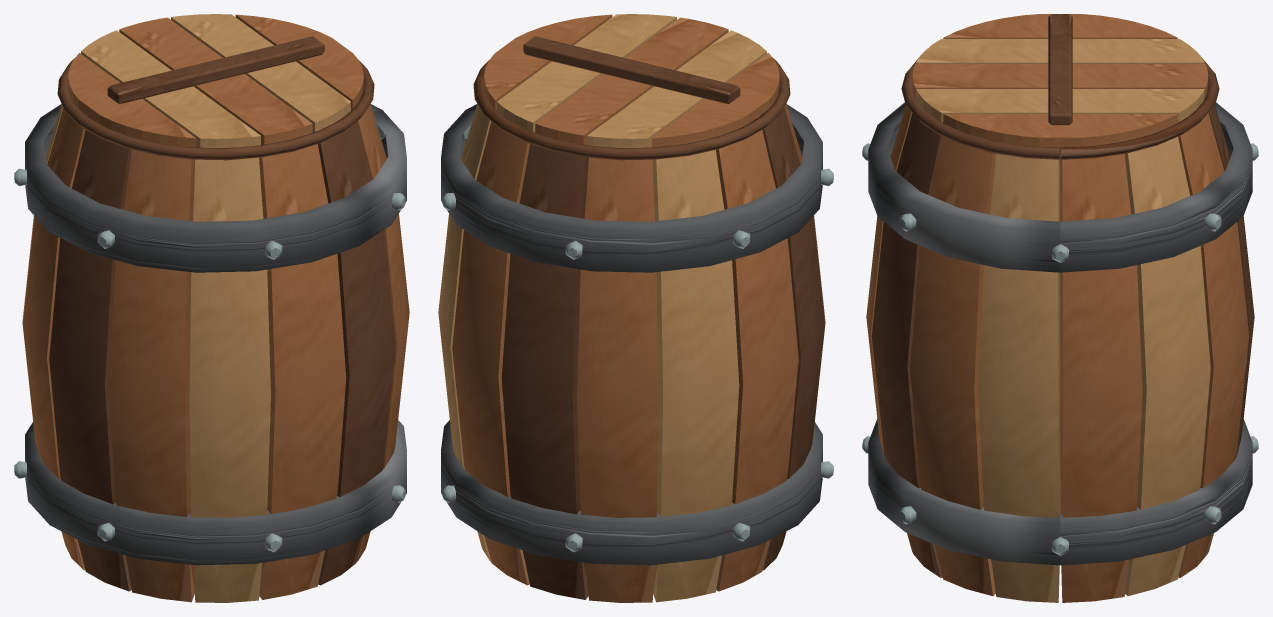
Rendered from SM_Barrel_Large.glb.
3 views of the same model, side by side, from view 1: azimuth 30°, elevation 25°; view 2: azimuth 150°, elevation 25°; view 3: azimuth 270°, elevation 25° (orthographic).
Parts seen in each view (by area): view 1: SM_Barrel_Large; view 2: SM_Barrel_Large; view 3: SM_Barrel_Large.
Boxes of the visible parts, left/top/right/bottom form: SM_Barrel_Large: left=14, top=14, right=409, bottom=602; SM_Barrel_Large: left=438, top=14, right=833, bottom=602; SM_Barrel_Large: left=862, top=14, right=1258, bottom=602.
Size of the model in its own units: 0.7286 by 0.9645 by 0.7284.
1 material, 1 textured.
